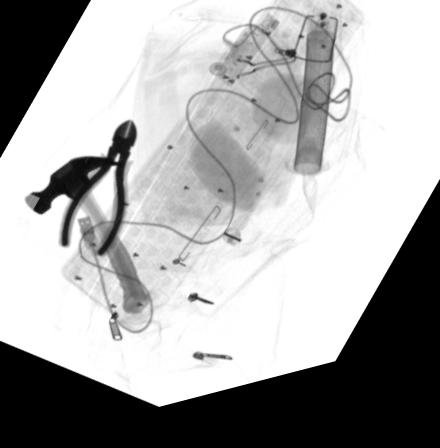Hammer: (24, 158, 152, 320)
Pliers: (57, 125, 137, 261)
